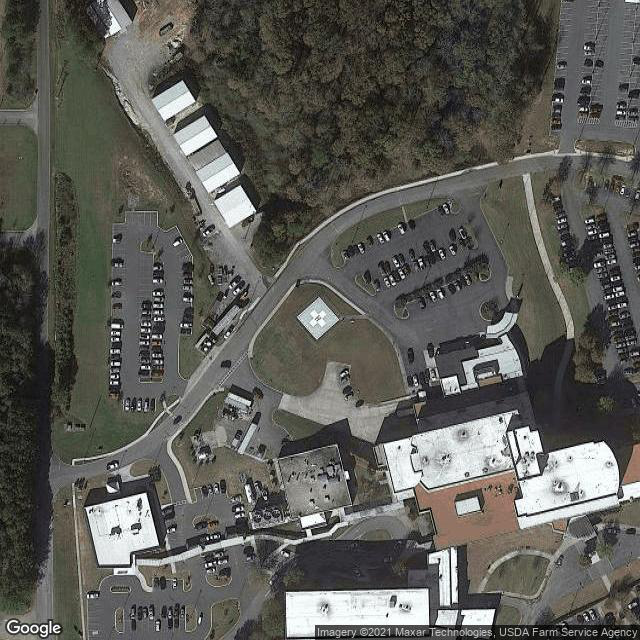Helipad: (294, 294, 341, 342)
